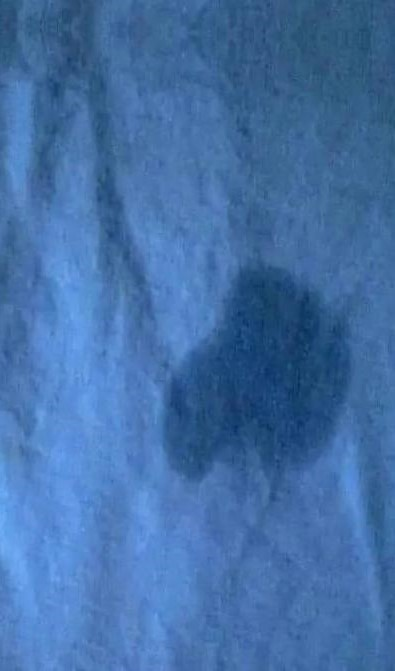stain: (147, 255, 363, 492)
